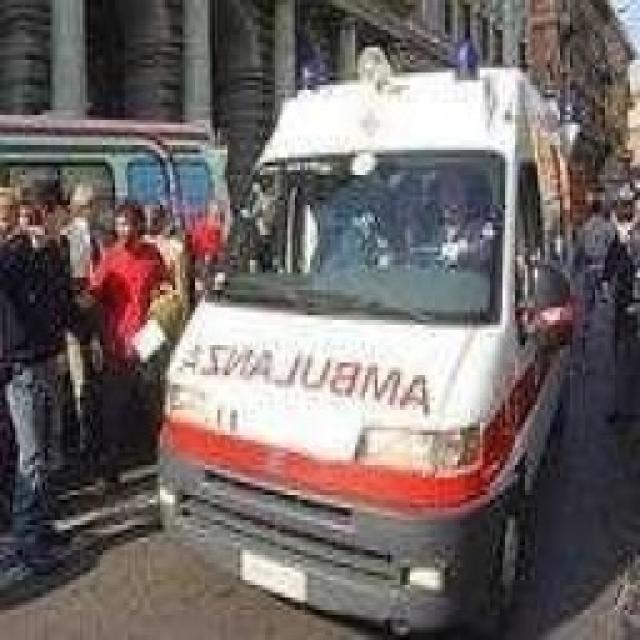emergency-vehicle: (158, 48, 580, 633)
